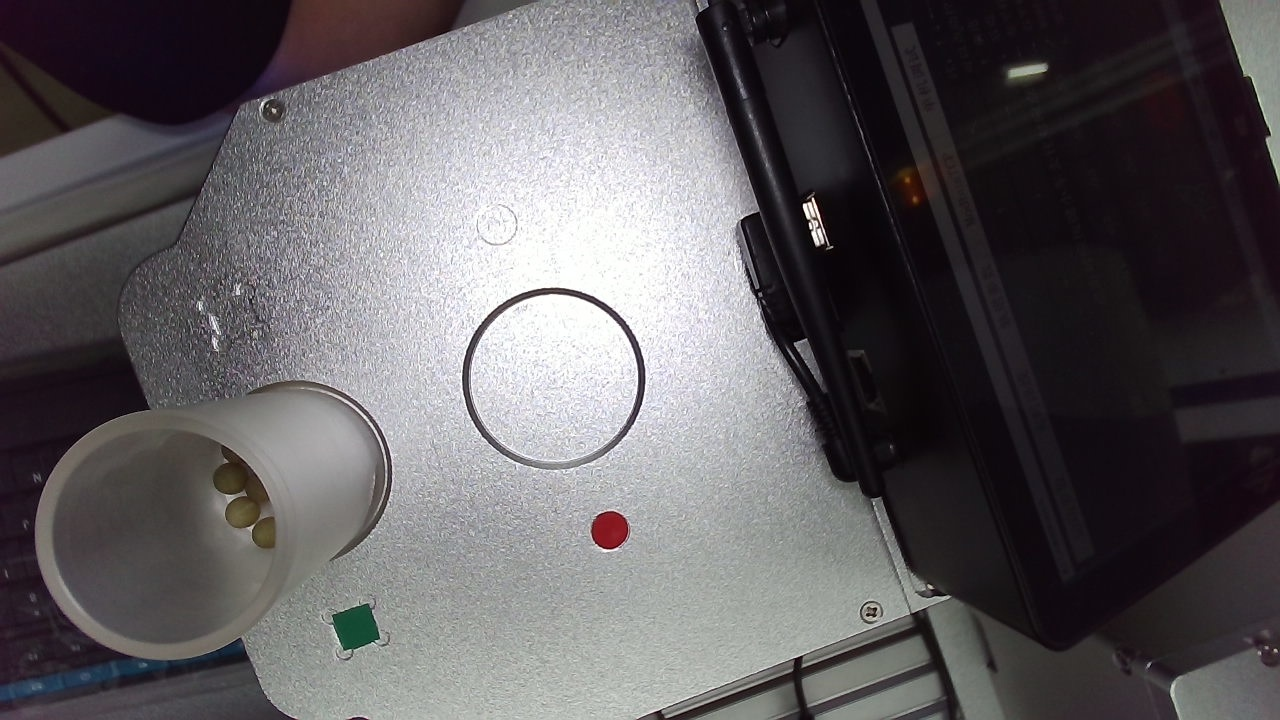XLabel: (349, 112, 416, 180)
YLabel: (783, 133, 855, 209)
transparenexcept: (651, 226, 1081, 637)
whiteexcept: (103, 220, 526, 600)
